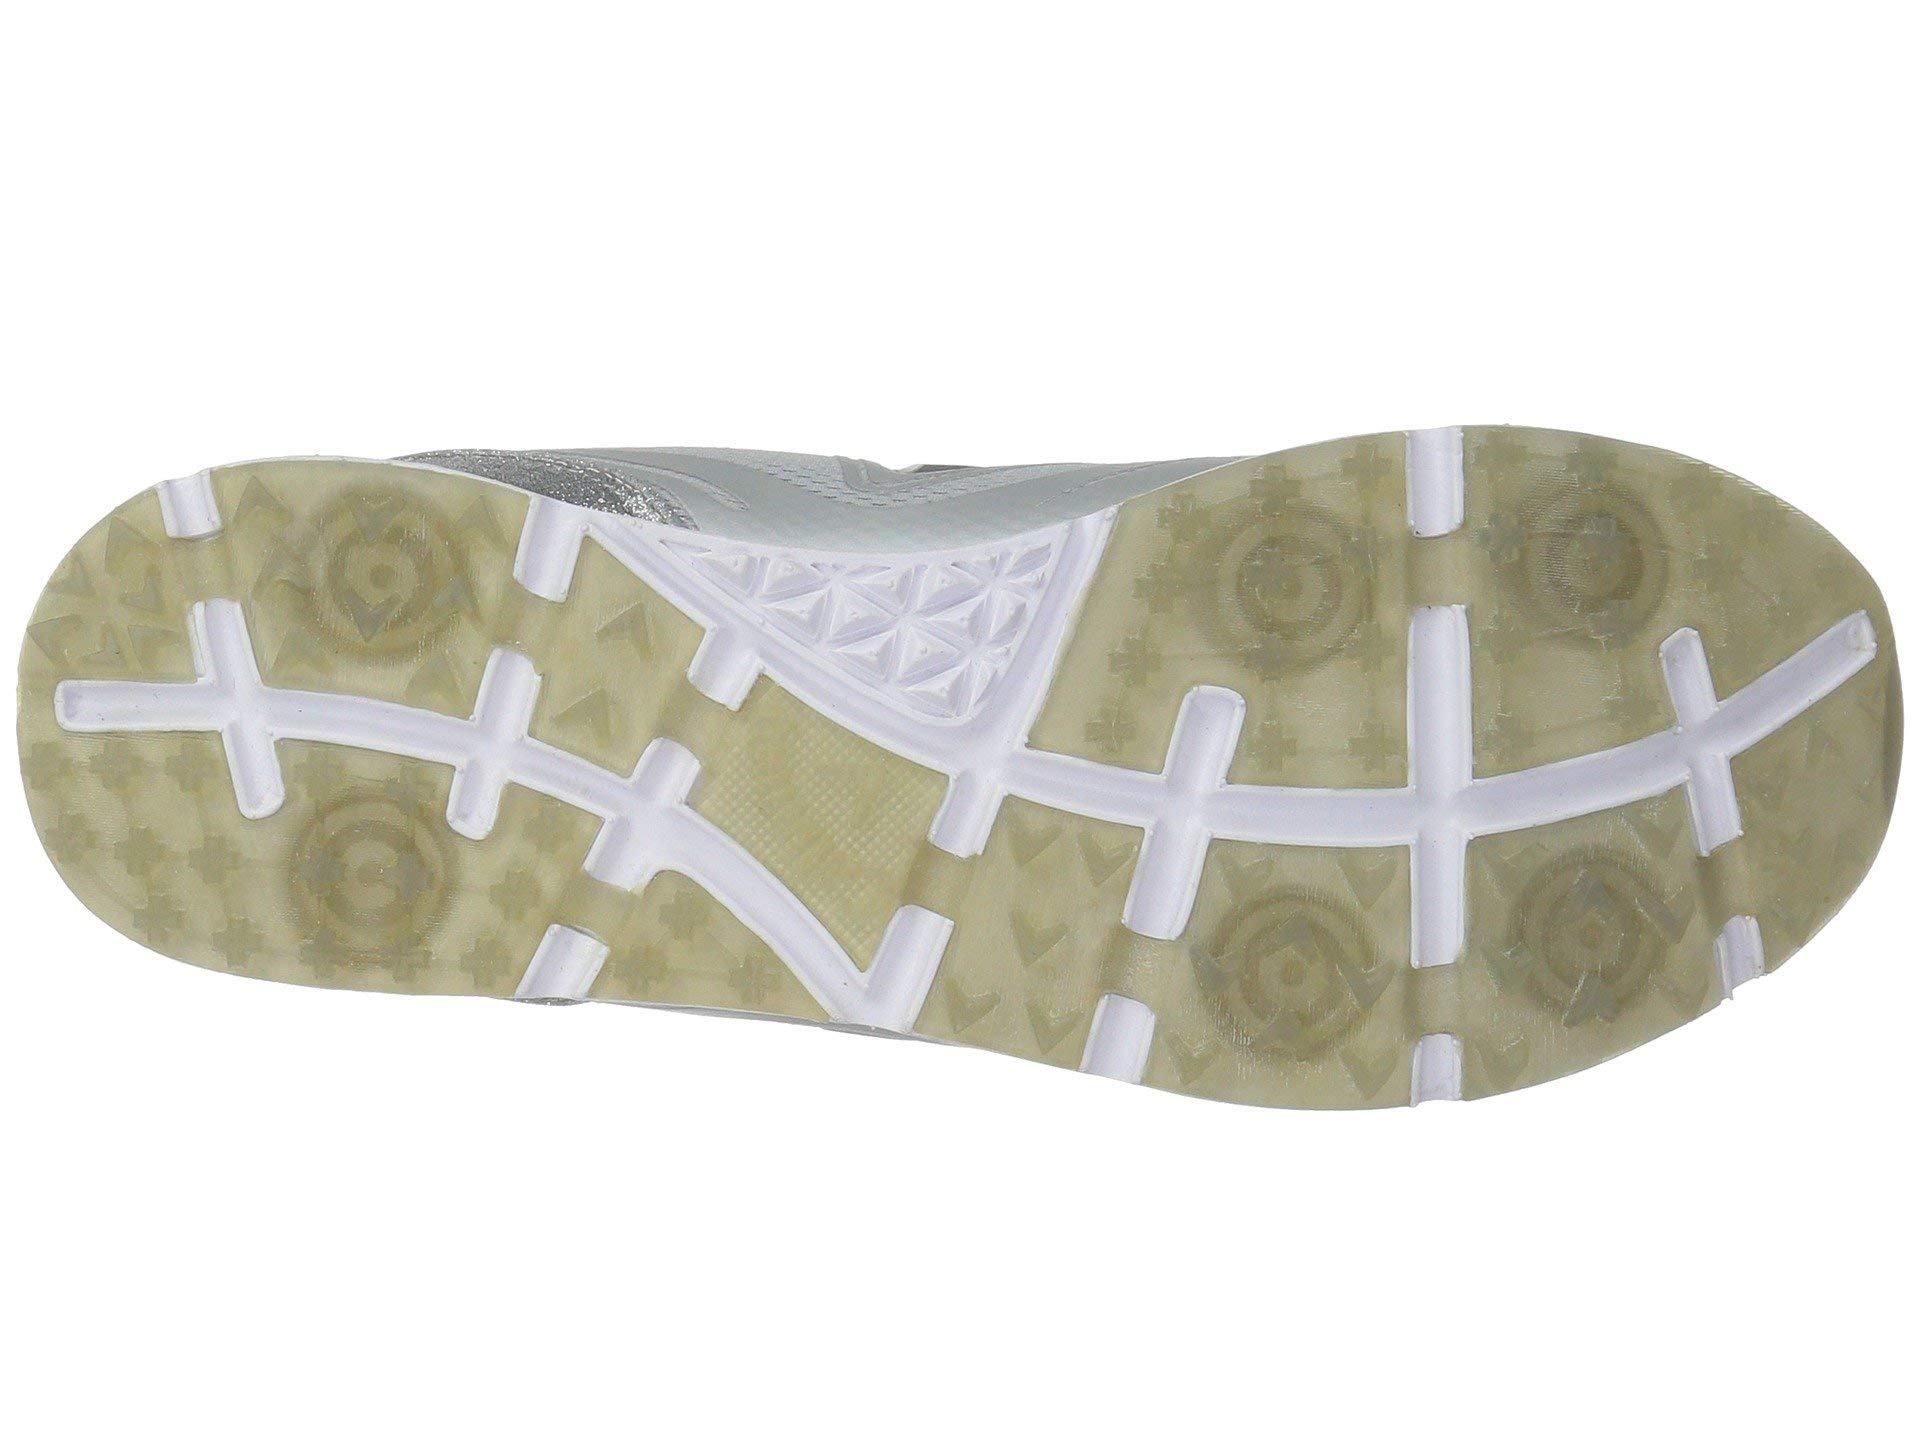chevron: (925, 776, 1155, 1074), (537, 543, 701, 784)
line: (819, 545, 1008, 725)
polygon: (819, 545, 1008, 725)
quad: (819, 545, 1008, 725)
triangle: (819, 545, 1008, 725)
